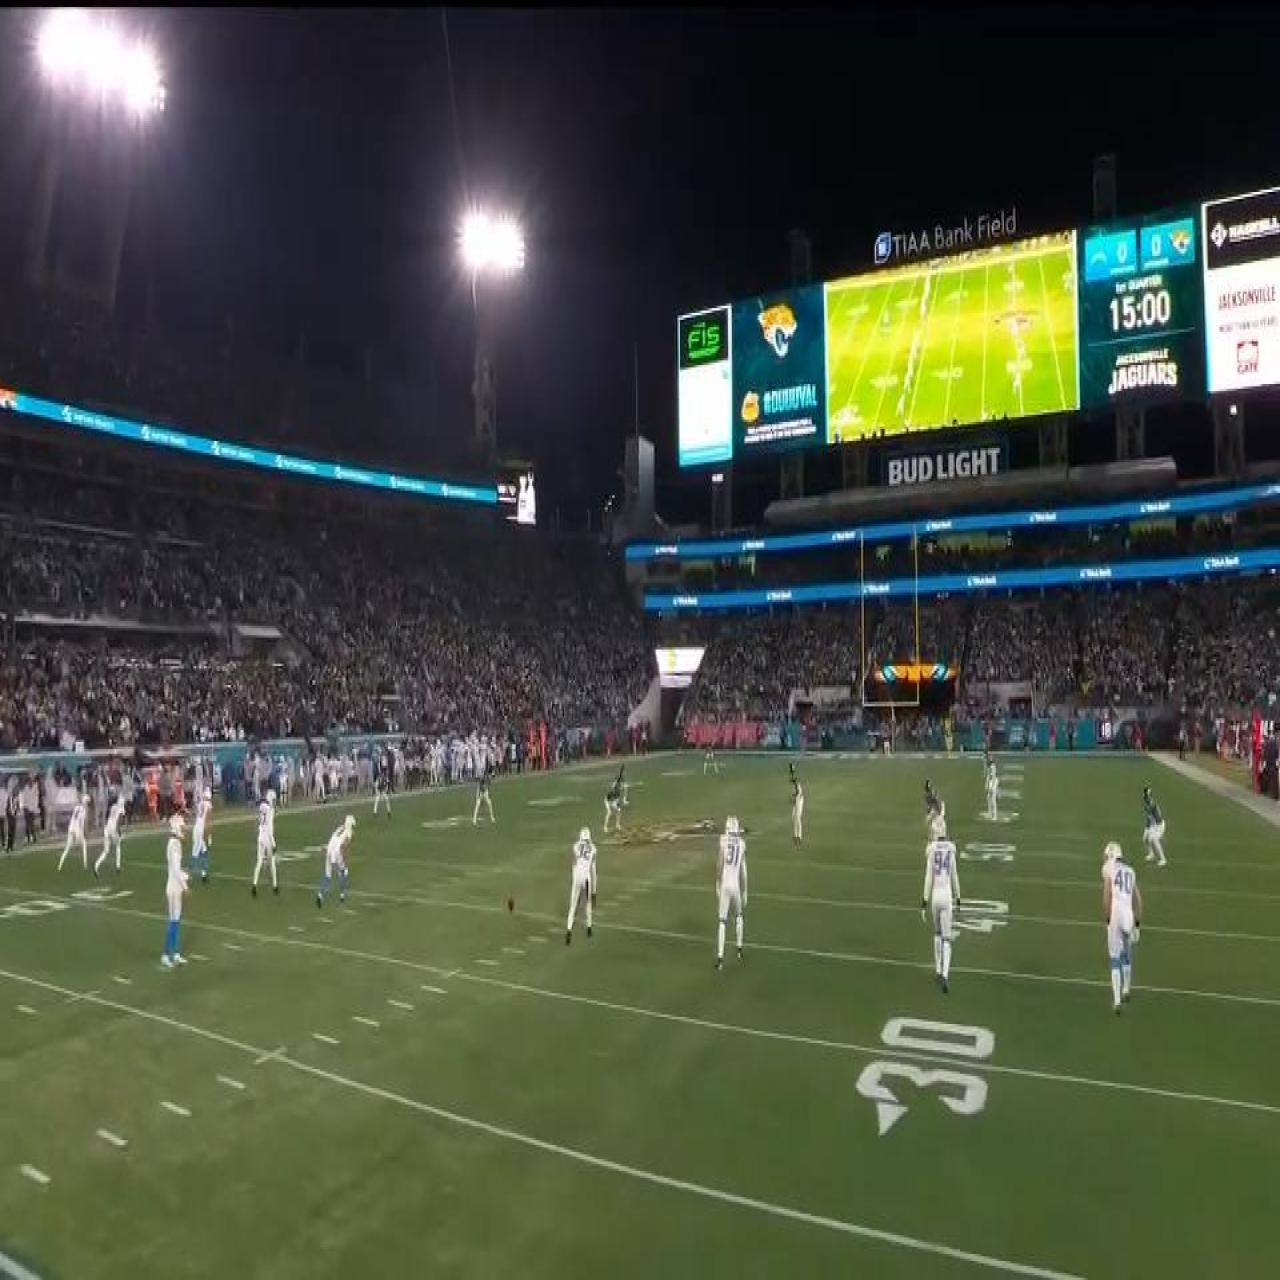30L: (856, 1015, 998, 1137), (0, 886, 132, 917)
40L: (940, 897, 1010, 940)
50: (960, 842, 1016, 860)
